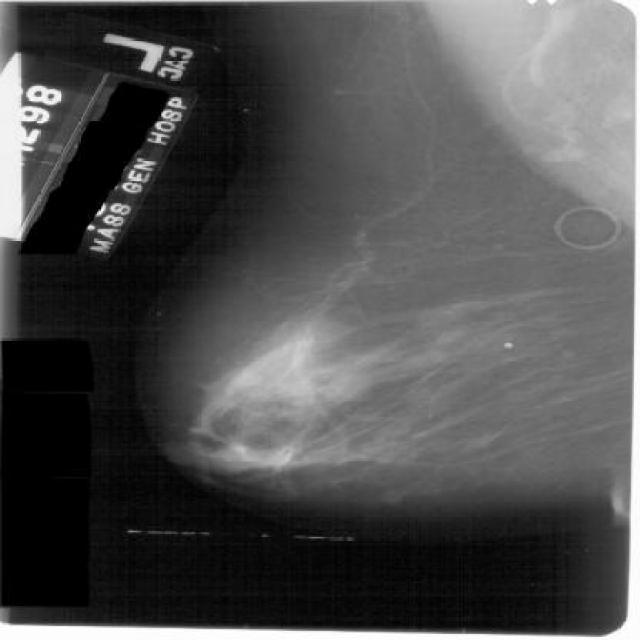tumor: (185, 328, 352, 460)
